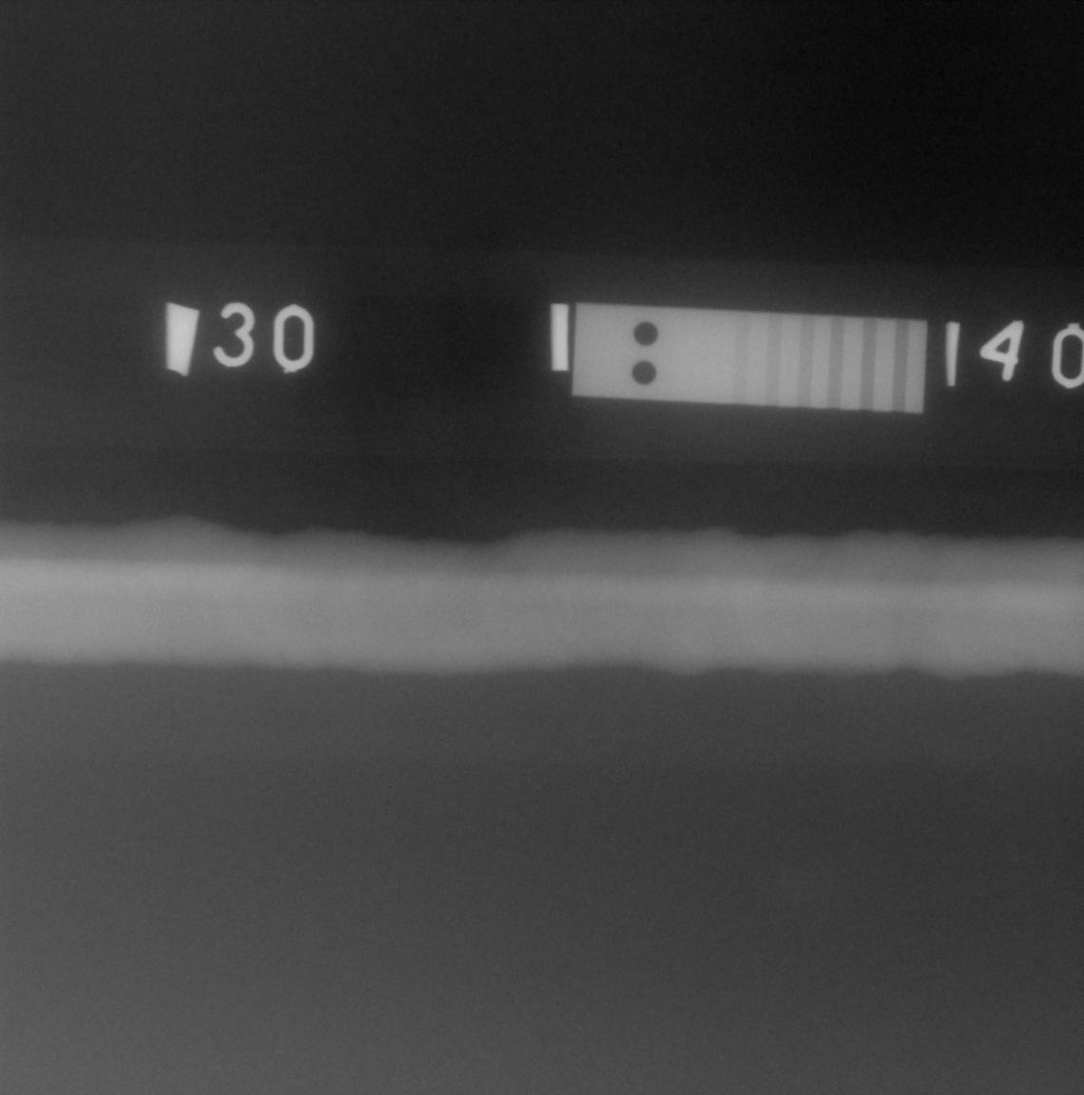Reference Standard 2: (572, 303, 927, 412)
